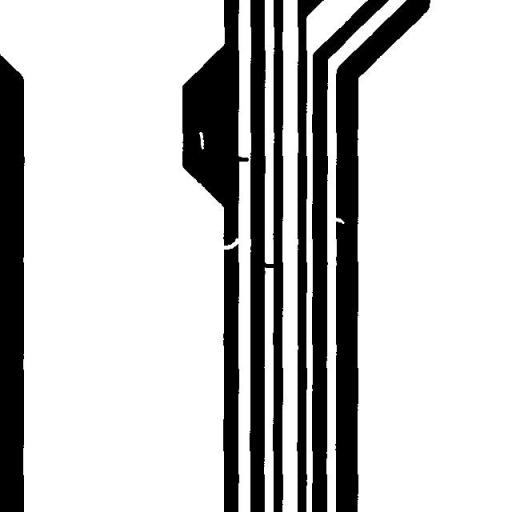mousebite: (326, 210, 352, 231)
open: (212, 230, 246, 257)
pin-hole: (191, 124, 211, 157)
short: (252, 254, 282, 276)
spur: (226, 149, 256, 169)
